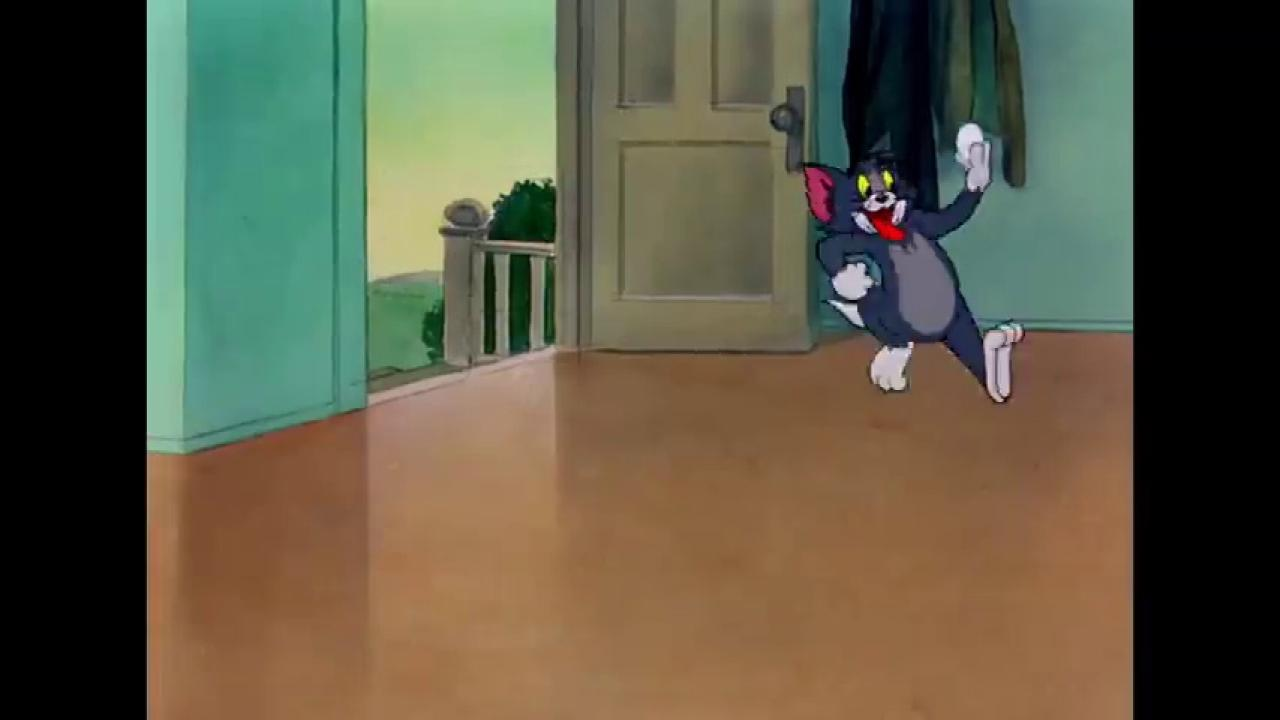Tom: (799, 140, 1024, 406)
